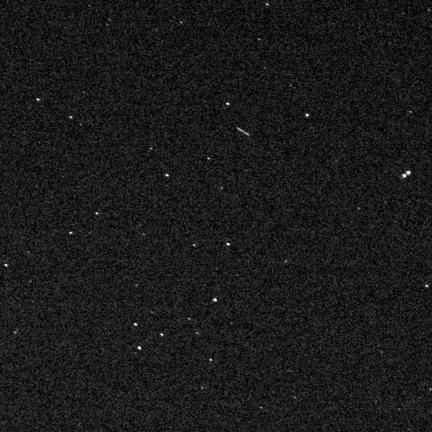blob: (165, 174, 170, 178), (138, 346, 142, 351), (402, 174, 406, 178), (160, 333, 164, 337), (37, 98, 41, 102), (69, 116, 73, 120), (227, 243, 231, 247), (406, 171, 410, 175), (4, 264, 8, 267), (214, 298, 217, 302), (226, 103, 230, 106), (306, 114, 309, 117), (134, 323, 137, 326), (69, 232, 72, 234)
